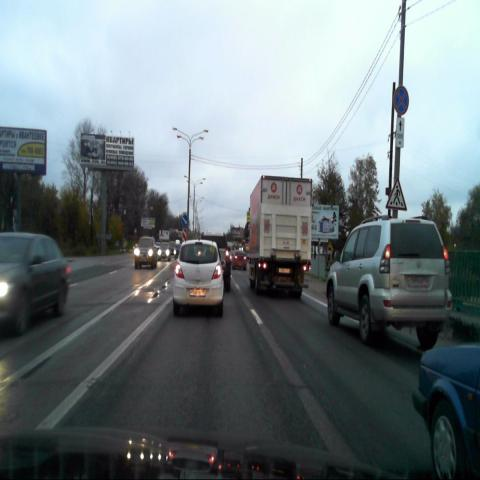8_2_2: (396, 118, 405, 148)
